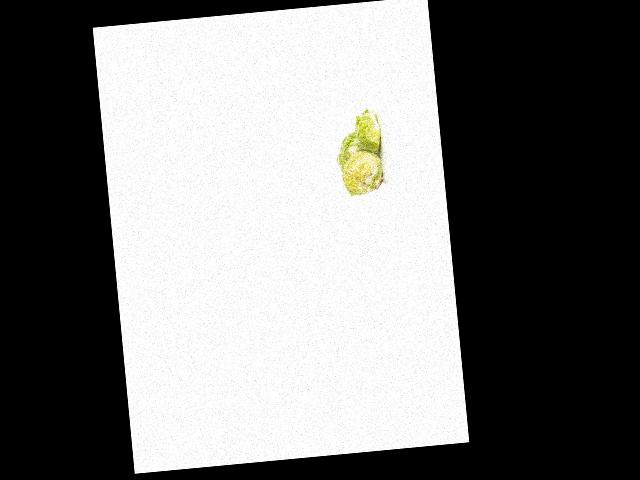lettuce: (332, 127, 366, 176)
